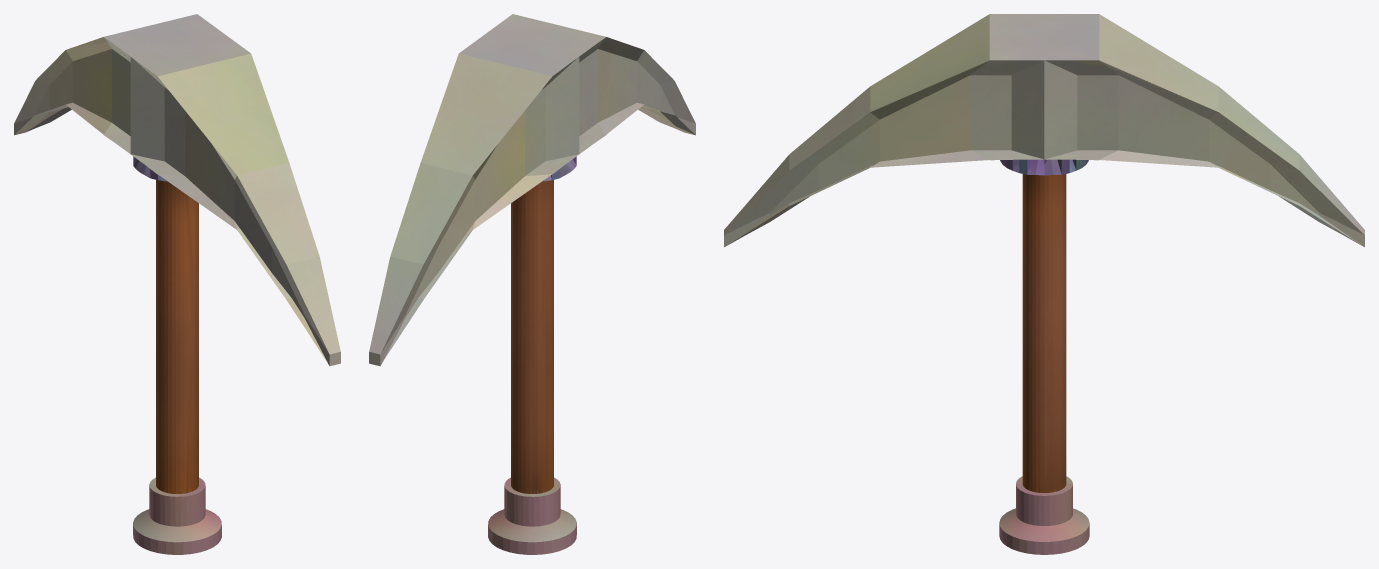
Rendered from Pickaxe.fbx.
3 views of the same model, side by side, from view 1: azimuth 30°, elevation 25°; view 2: azimuth 150°, elevation 25°; view 3: azimuth 270°, elevation 25° (orthographic).
Visible parts, largest first — view 1: 立方體, 圓柱體; view 2: 立方體, 圓柱體; view 3: 立方體, 圓柱體.
Boxes of the visible parts, box(x1,y1,x2,y2) form: 立方體: box(14, 14, 340, 366); 圓柱體: box(133, 156, 221, 554); 立方體: box(369, 14, 695, 366); 圓柱體: box(488, 156, 576, 554); 立方體: box(724, 14, 1364, 247); 圓柱體: box(999, 159, 1089, 554).
Bounding box in the file's own units: 1169 × 200 × 1004.
2 materials, 2 textured.
